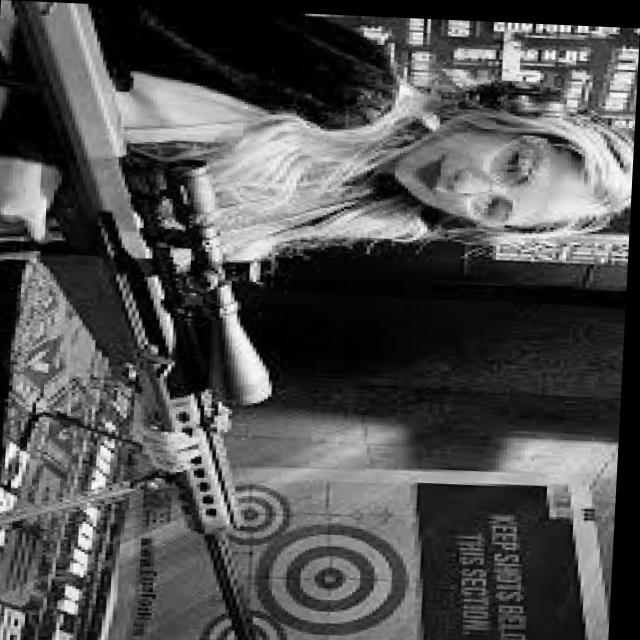rifle: (0, 0, 308, 640)
